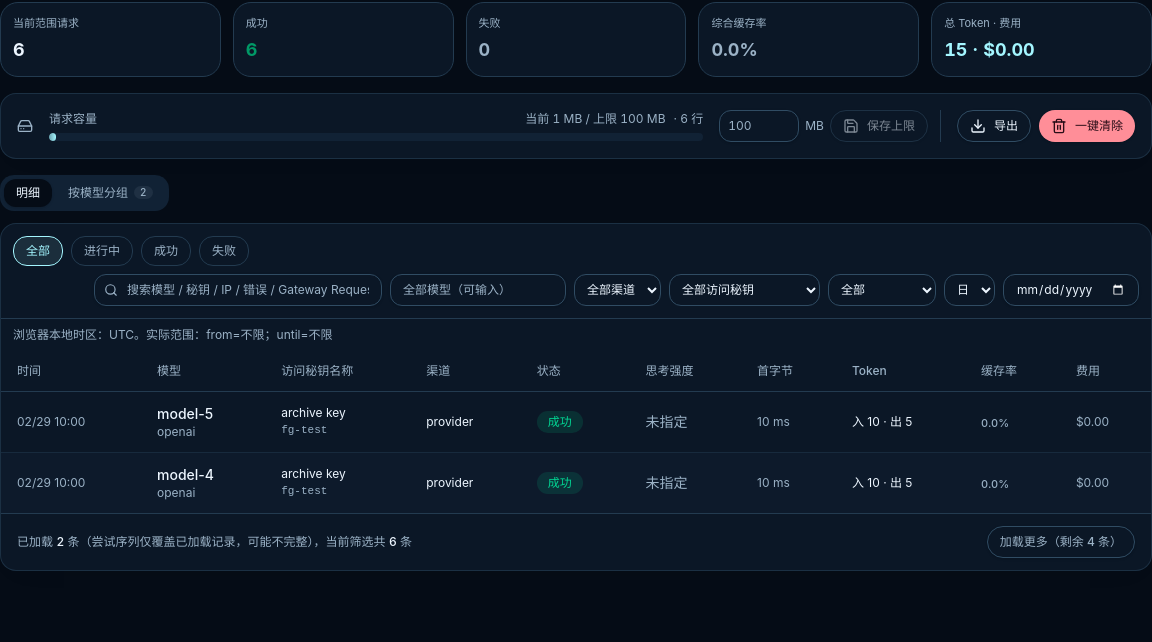
Test case: Requests filters › omits the misleading actual upstream source while retaining diagnostic details
Expected: the column heading "渠道" is shown, 410,350 -> 521,391
Click the text "model-5" at (185, 413), box 157,404 -> 213,422
(page scrolled)
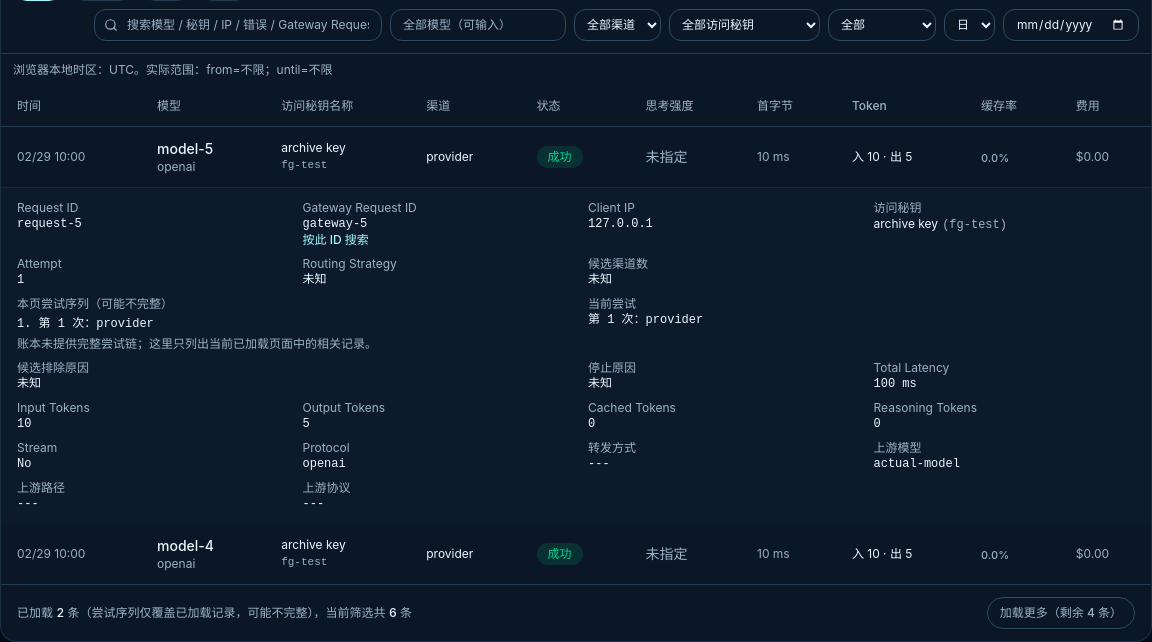
Result: the text "actual-model" is shown at 874,456 -> 960,470
Result: the text "上游路径" is shown at 17,480 -> 65,494
Result: the text "上游协议" is shown at 302,480 -> 350,494
